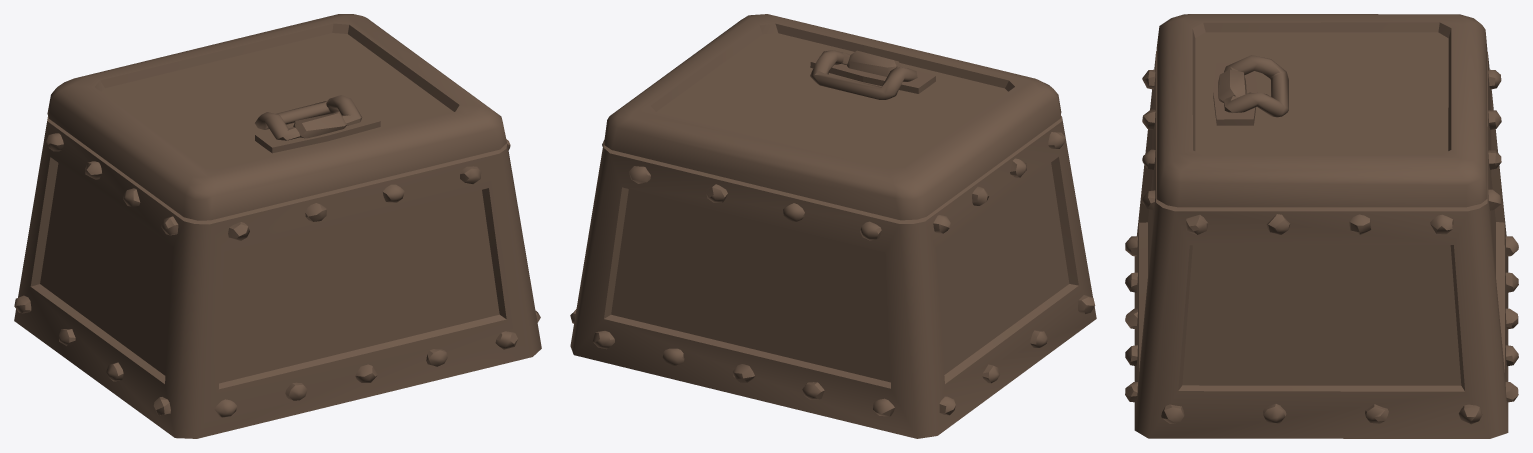
Rendered from iron-chest.glb.
3 renders of one model, left to right at view 1: azimuth 30°, elevation 25°; view 2: azimuth 150°, elevation 25°; view 3: azimuth 270°, elevation 25°, orthographic. The views are drawn at different scales.
Visible parts, largest first — view 1: body; view 2: body; view 3: body.
Part boxes in pixels (x1=…): body: x1=14, y1=14, x2=541, y2=438; body: x1=570, y1=14, x2=1096, y2=438; body: x1=1125, y1=14, x2=1518, y2=438.
Size of the model in its own units: 0.9863 by 0.6161 by 0.8192.
